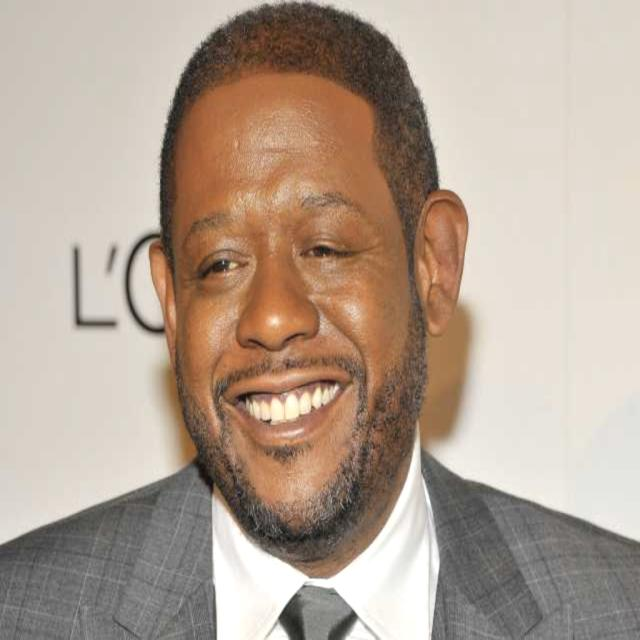normal_face: (175, 64, 422, 538)
